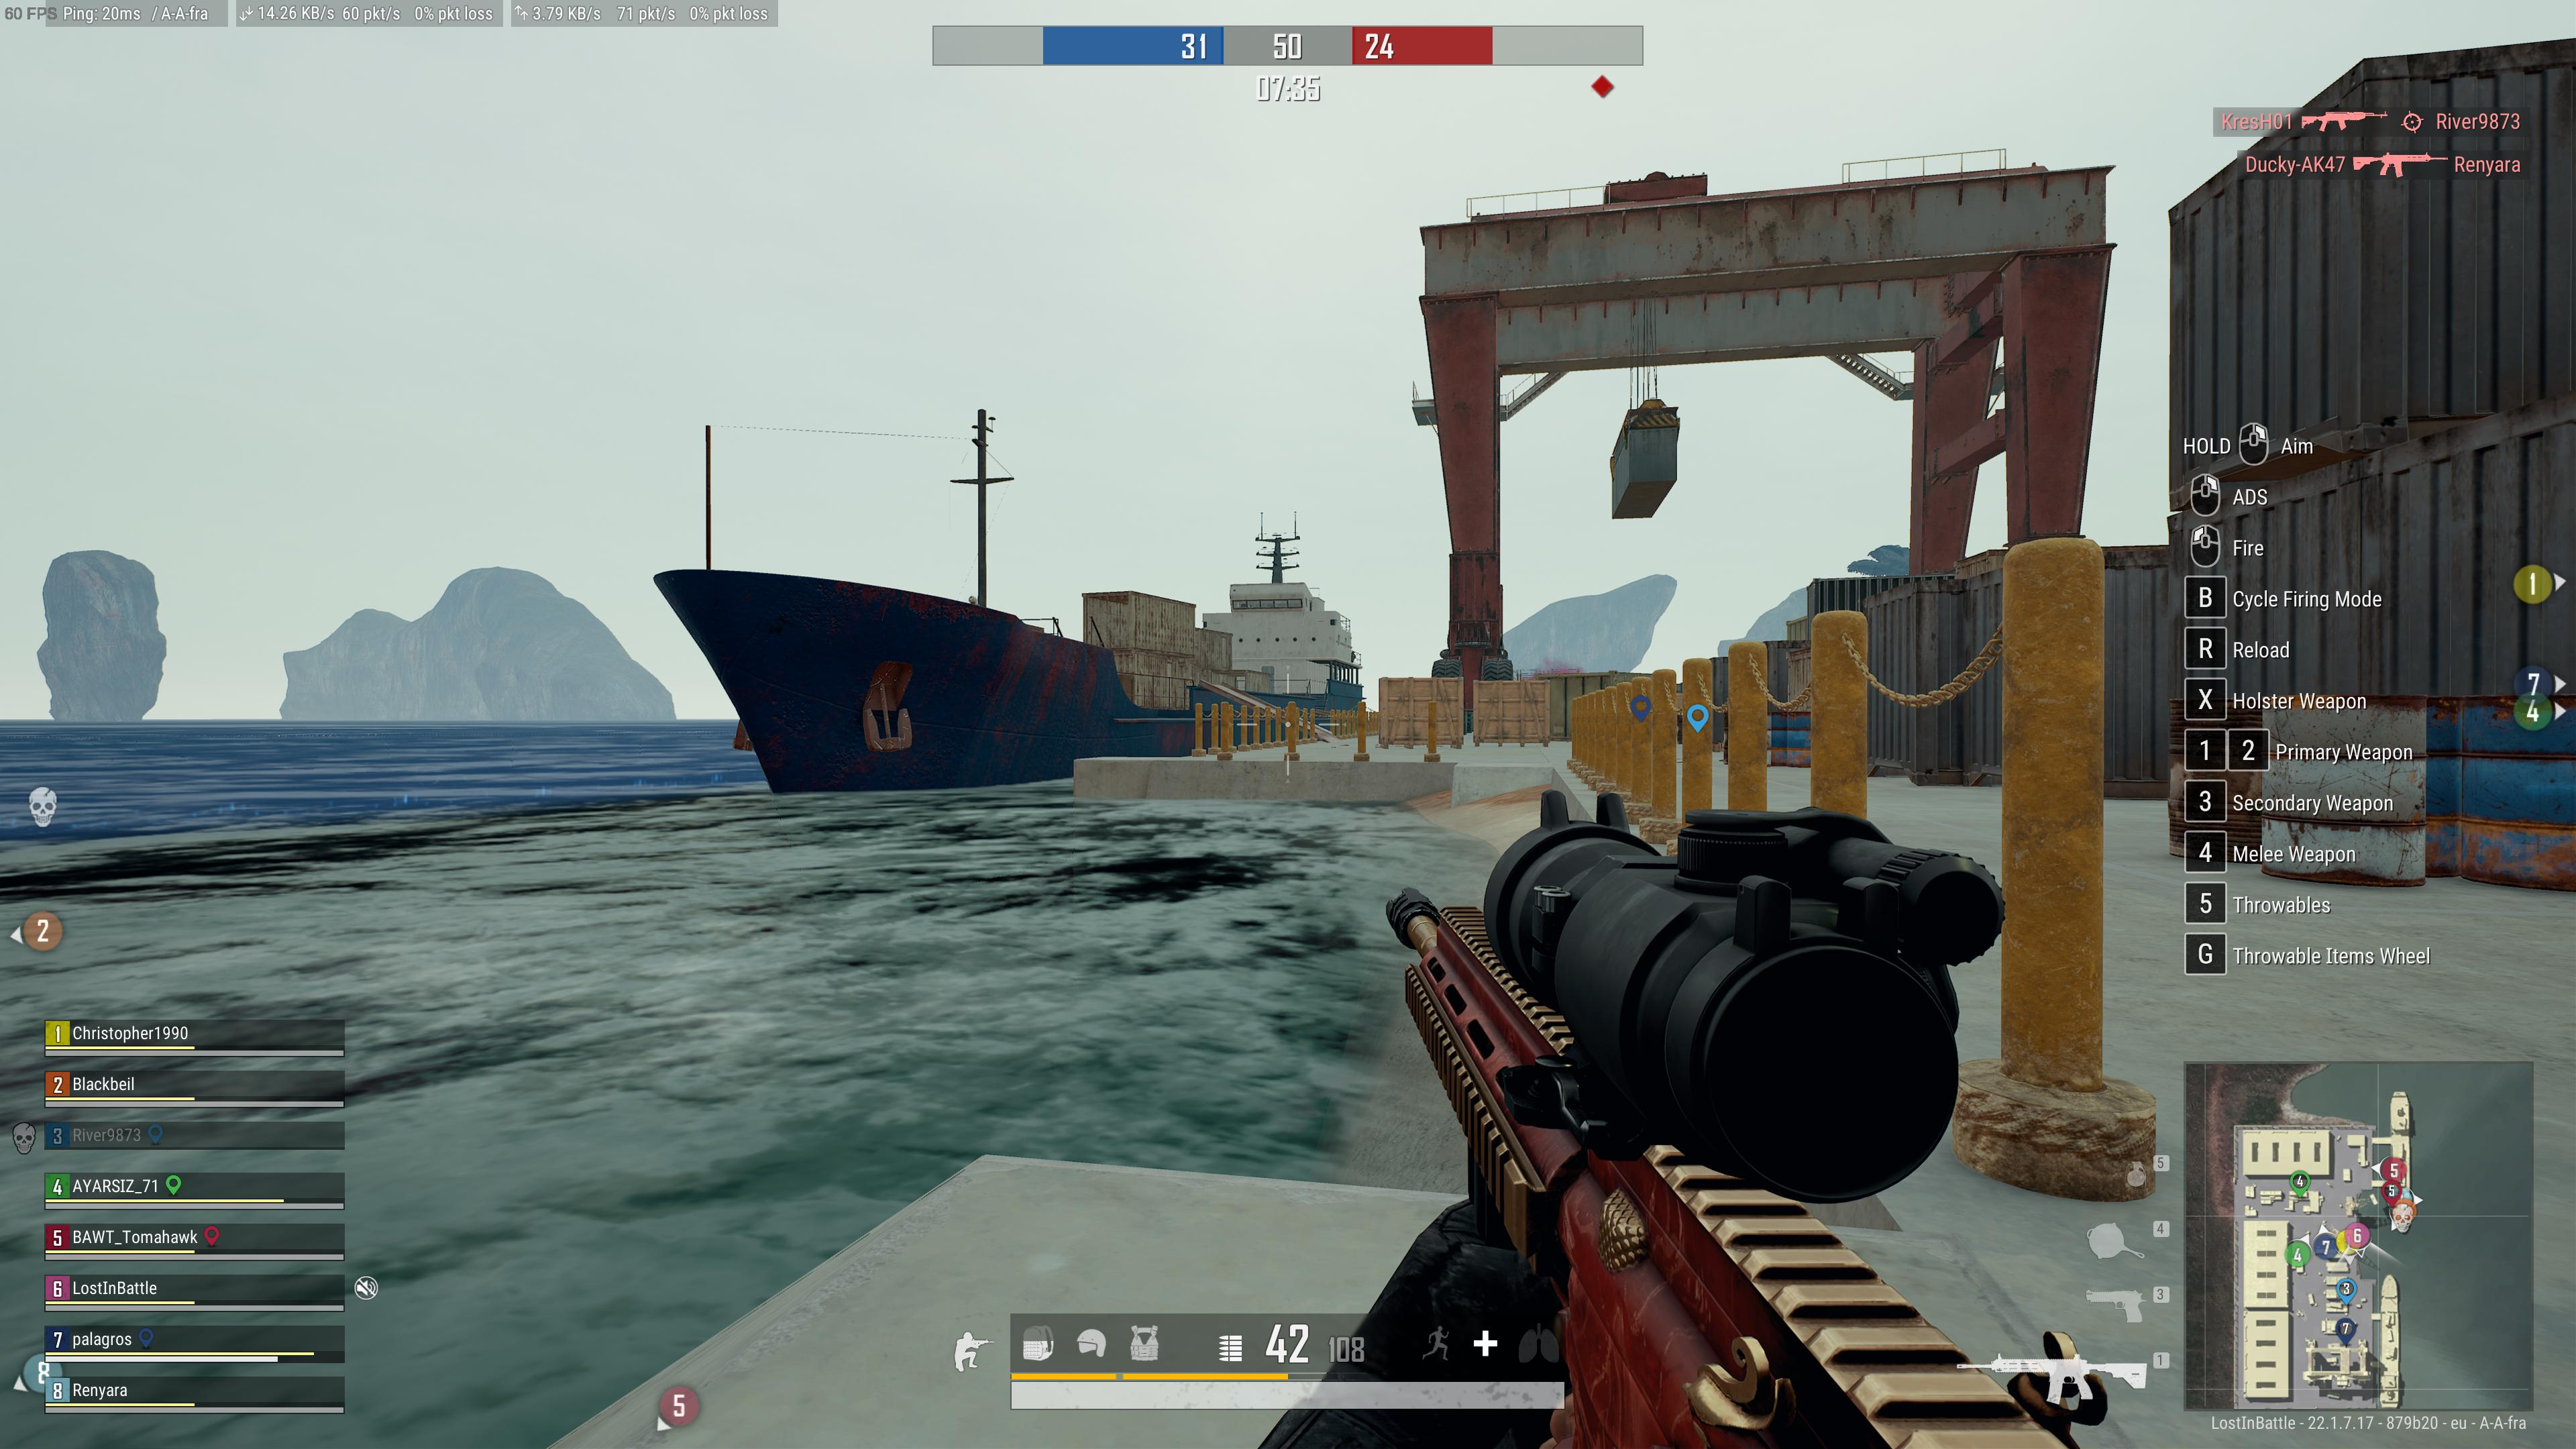enemy_head: (968, 594, 977, 603)
